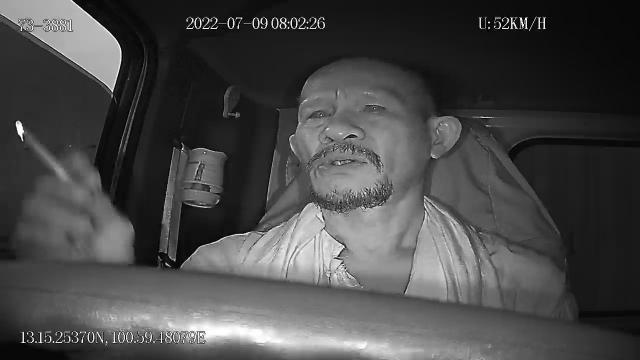SafeDriving: (356, 93, 394, 120), (300, 102, 336, 127)
Smoking: (14, 118, 72, 184)
